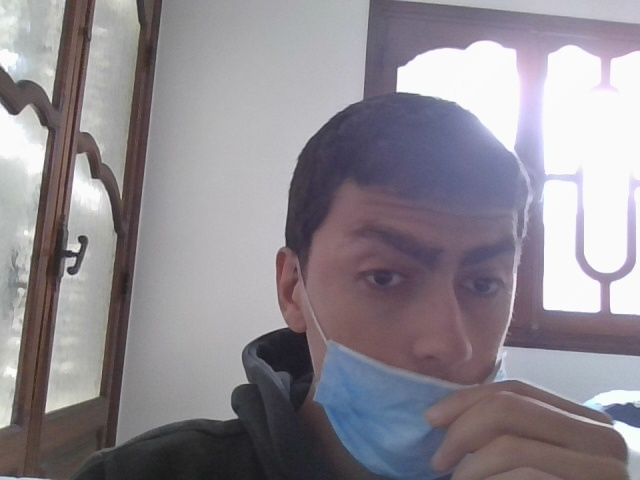mask_weared_incorrect: (311, 170, 539, 473)
